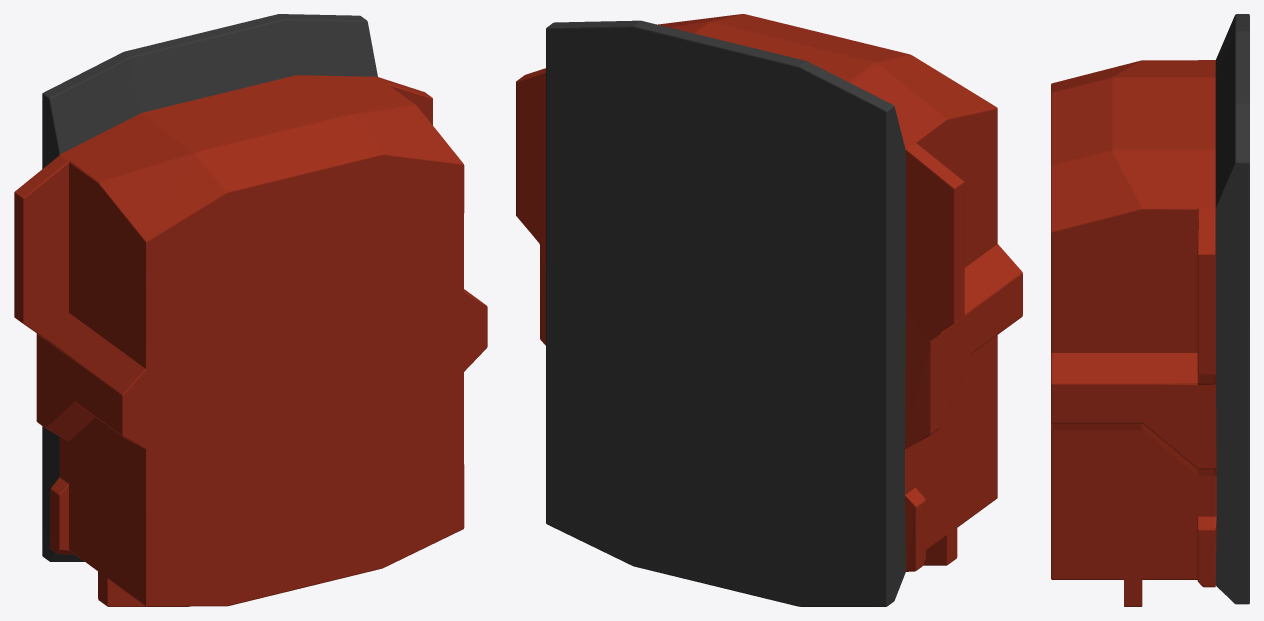
Rendered from x2_chassis.dae.
3 renders of one model, left to right at view 1: azimuth 30°, elevation 25°; view 2: azimuth 150°, elevation 25°; view 3: azimuth 270°, elevation 25°, orthographic. The views are drawn at different scales.
Visible parts, largest first — view 1: X2_Body; view 2: X2_Body; view 3: X2_Body.
Part boxes in pixels (bbox=[...]): X2_Body: bbox=[14, 14, 487, 606]; X2_Body: bbox=[516, 14, 1022, 606]; X2_Body: bbox=[1051, 14, 1249, 606].
Bounding box in the file's own units: 0.4203 × 0.1847 × 0.4969.
